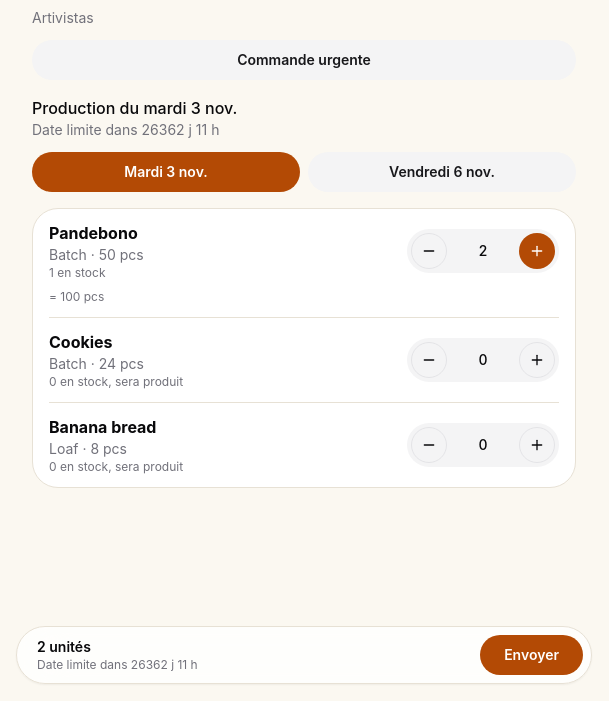
Test case: CafeHome rounds › switches the cart to the second round and loads its order
Expected: the text "2 unités" is shown, [37,638,91,655]
What coordinates should you click on to do the following:
click the button "Vendredi 6 nov."
I would click on:
 (442, 172)
Its box is [308,152,576,192].
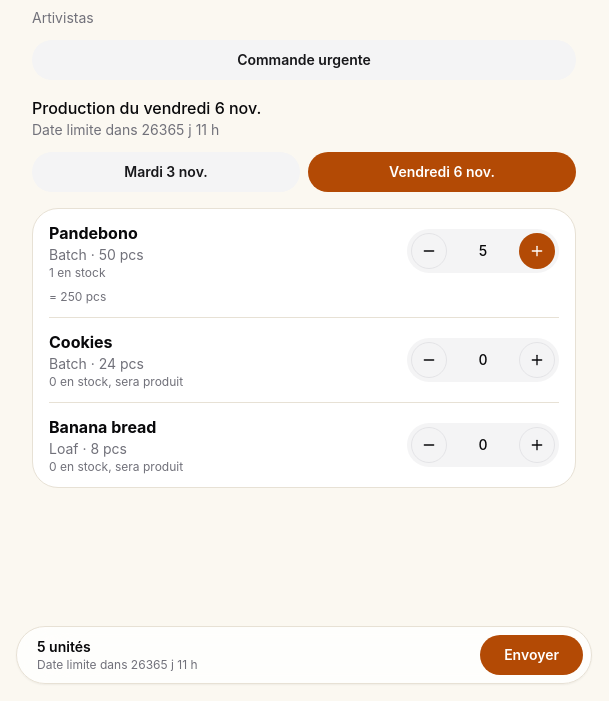
Expected: the text "Production du vendredi 6 nov." is shown, [32,98,261,118]
Expected: the text "5 unités" is shown, [37,638,91,655]
